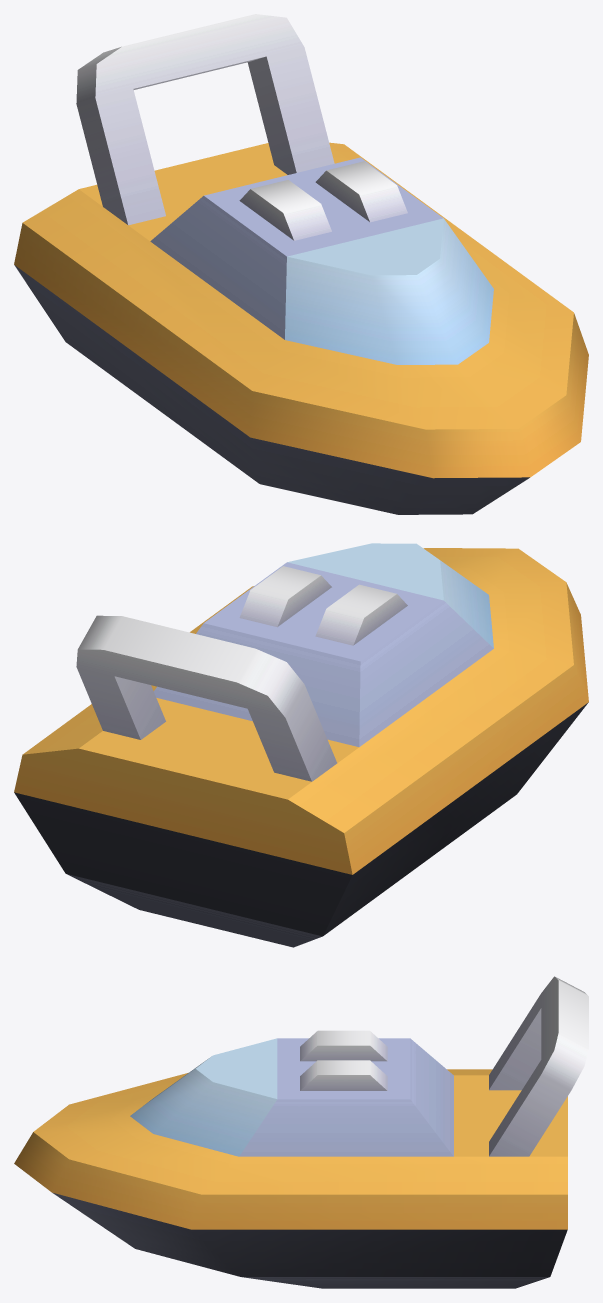
File: boat-speed-b.glb
3 renders of one model, top to bottom at view 1: azimuth 30°, elevation 25°; view 2: azimuth 150°, elevation 25°; view 3: azimuth 270°, elevation 25°, orthographic. The views are drawn at different scales.
Parts seen in each view (by area): view 1: boat-speed-b; view 2: boat-speed-b; view 3: boat-speed-b.
Boxes of the visible parts, left/top/right/bottom form: boat-speed-b: left=14, top=14, right=588, bottom=514; boat-speed-b: left=14, top=543, right=588, bottom=947; boat-speed-b: left=14, top=976, right=588, bottom=1288.
Size of the model in its own units: 1.78 by 1.59 by 3.29.
Materials: 1 (1 with a texture image).
